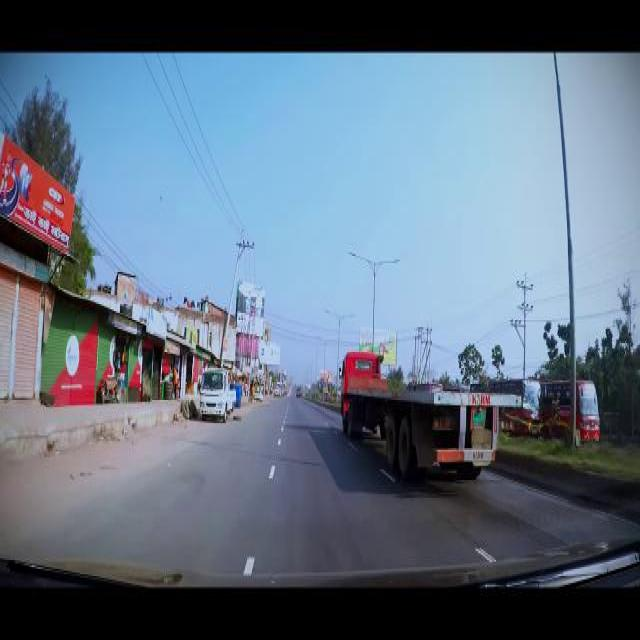11: (198, 367, 236, 419)
18: (338, 348, 522, 478)
5: (252, 389, 264, 400)
Truck: (470, 378, 540, 433), (540, 379, 600, 439)
